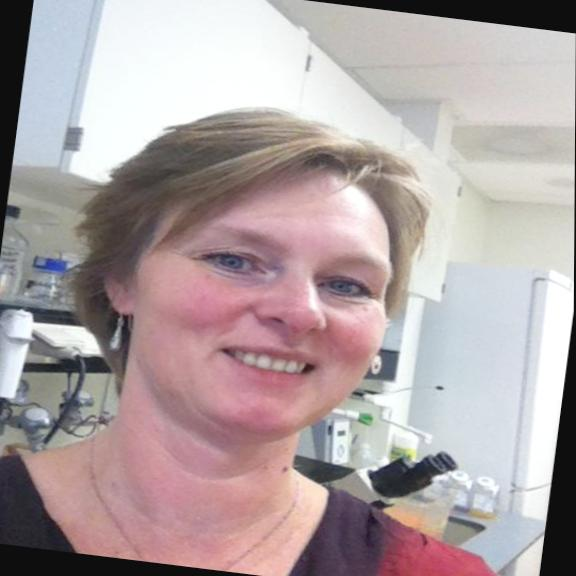no_safety_vest: (0, 431, 549, 576)
